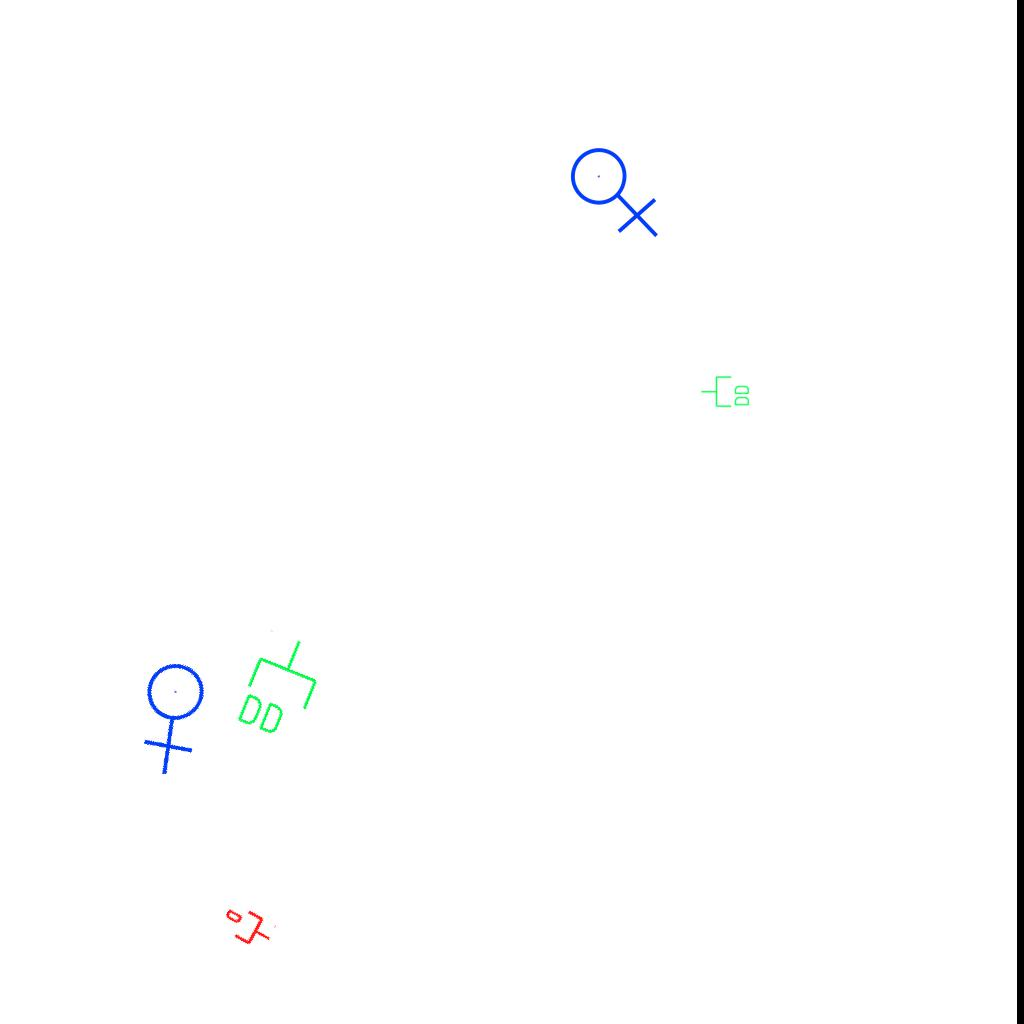Datenanschluss_einfach: (217, 900, 279, 954)
Datenanschluss_zweifach: (229, 625, 332, 748), (700, 375, 751, 409)
Elektroanschluss_allgemein_230V_Geraeteanschlussdose_230V: (108, 645, 245, 781), (569, 139, 663, 238)
